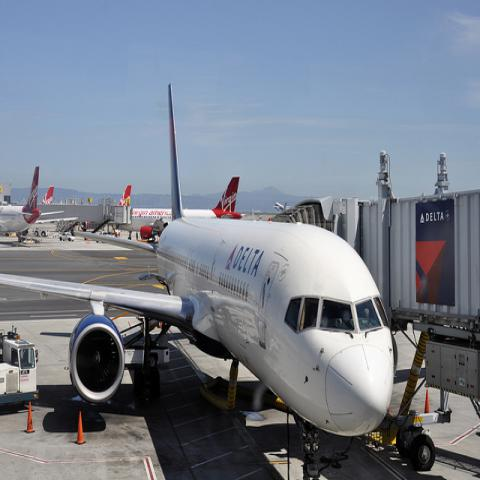car: (58, 231, 74, 243)
truck: (0, 329, 39, 407)
